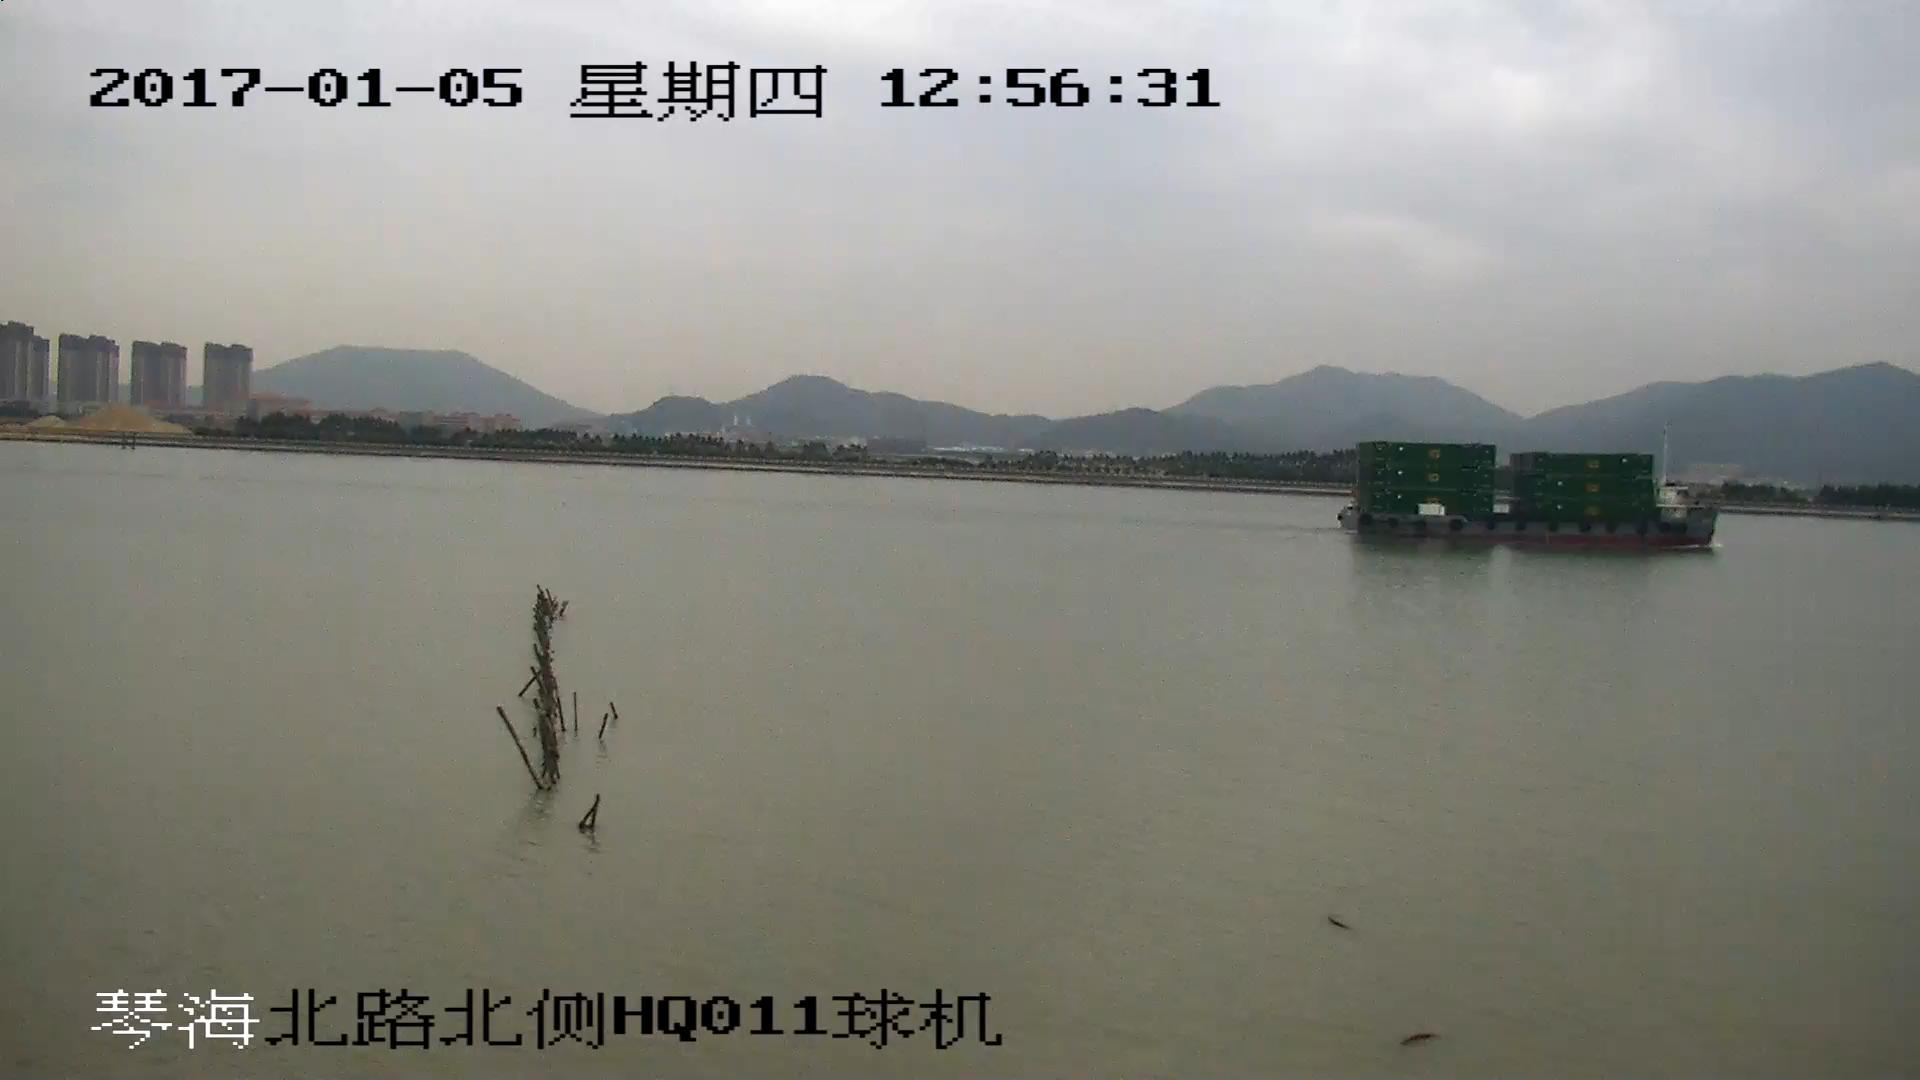Ship: (1344, 440, 1716, 551)
